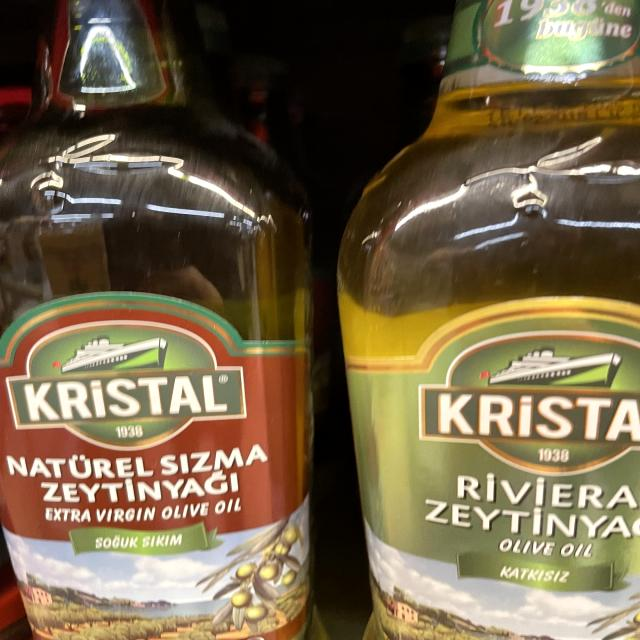olive oil: (0, 2, 321, 640), (330, 1, 640, 640)
